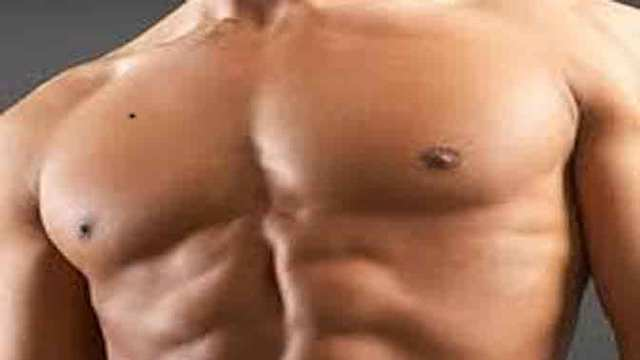mole: (122, 107, 144, 127)
